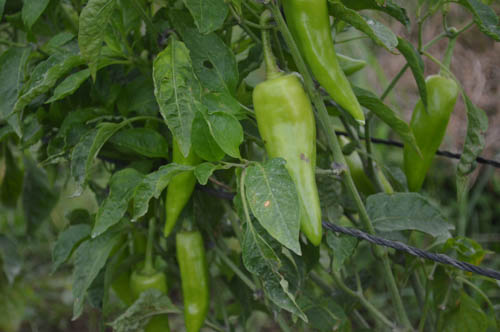ChiliPepper: (256, 77, 324, 243), (286, 3, 372, 125), (401, 74, 458, 202), (174, 230, 215, 328), (164, 138, 199, 236), (132, 270, 167, 327)
